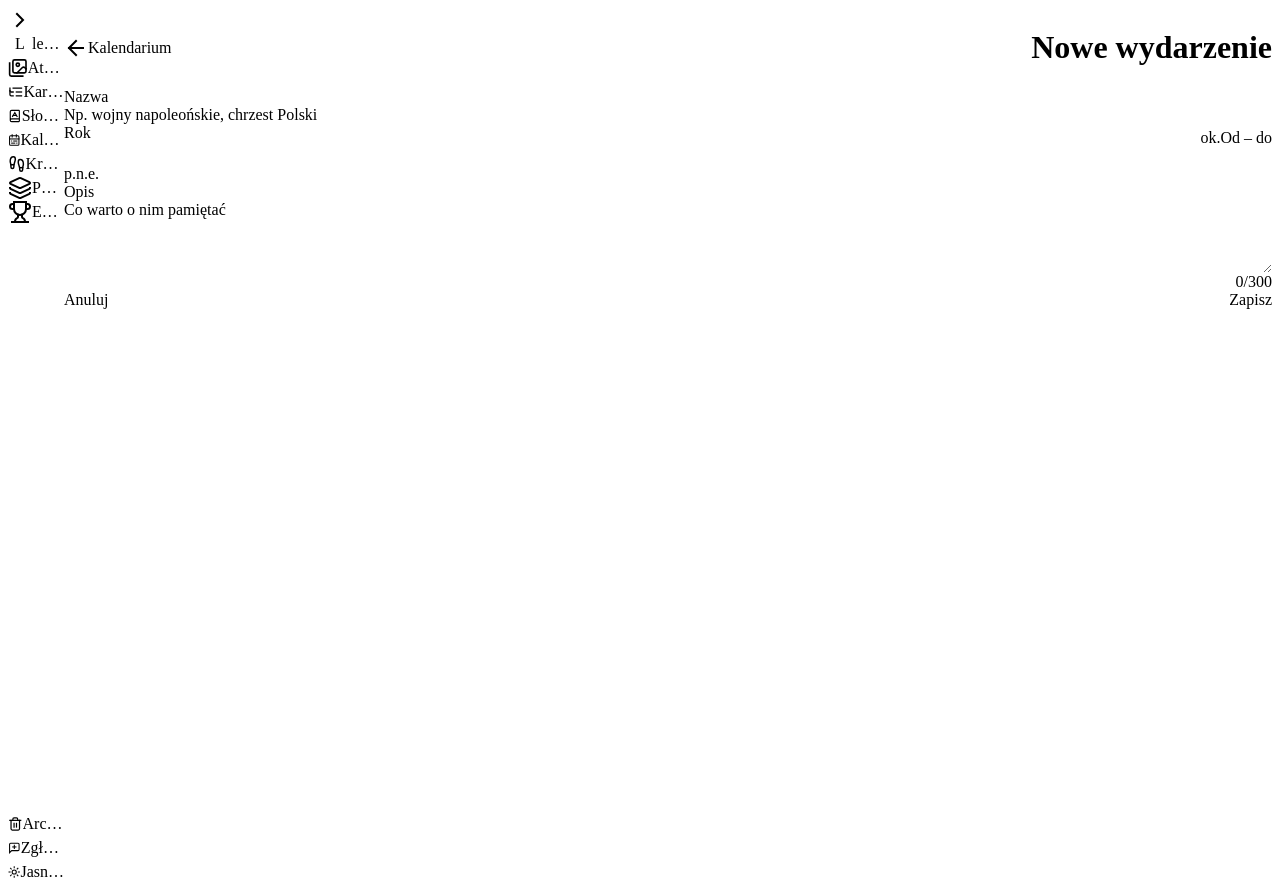
new timeline event page › unlocks the fields and offers another try when Wikipedia does not answer
In the field labelled "Nazwa": (668, 115) [64,106,1272,124], type "Potop szwedzki"
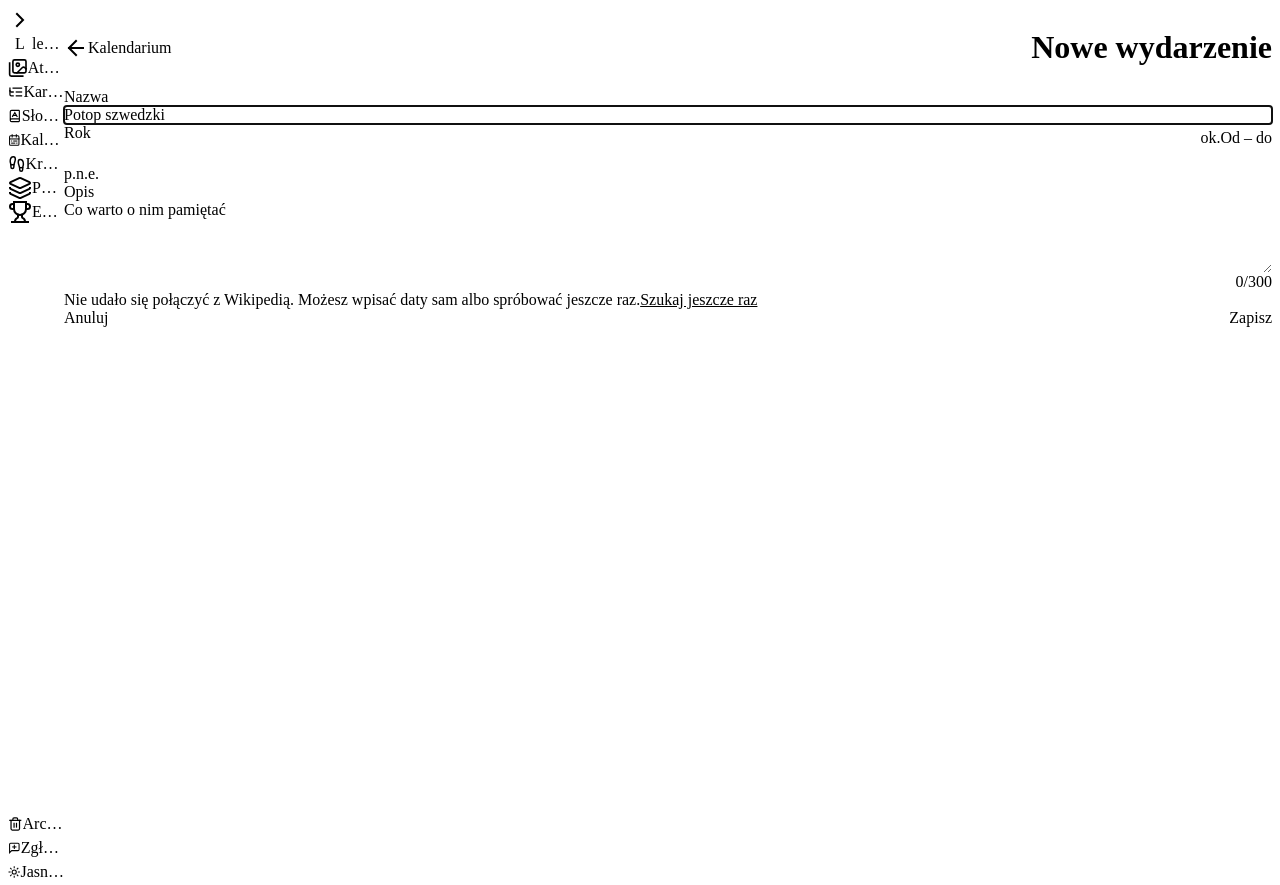
Click the button "Szukaj jeszcze raz": (699, 300) [640,291,758,309]
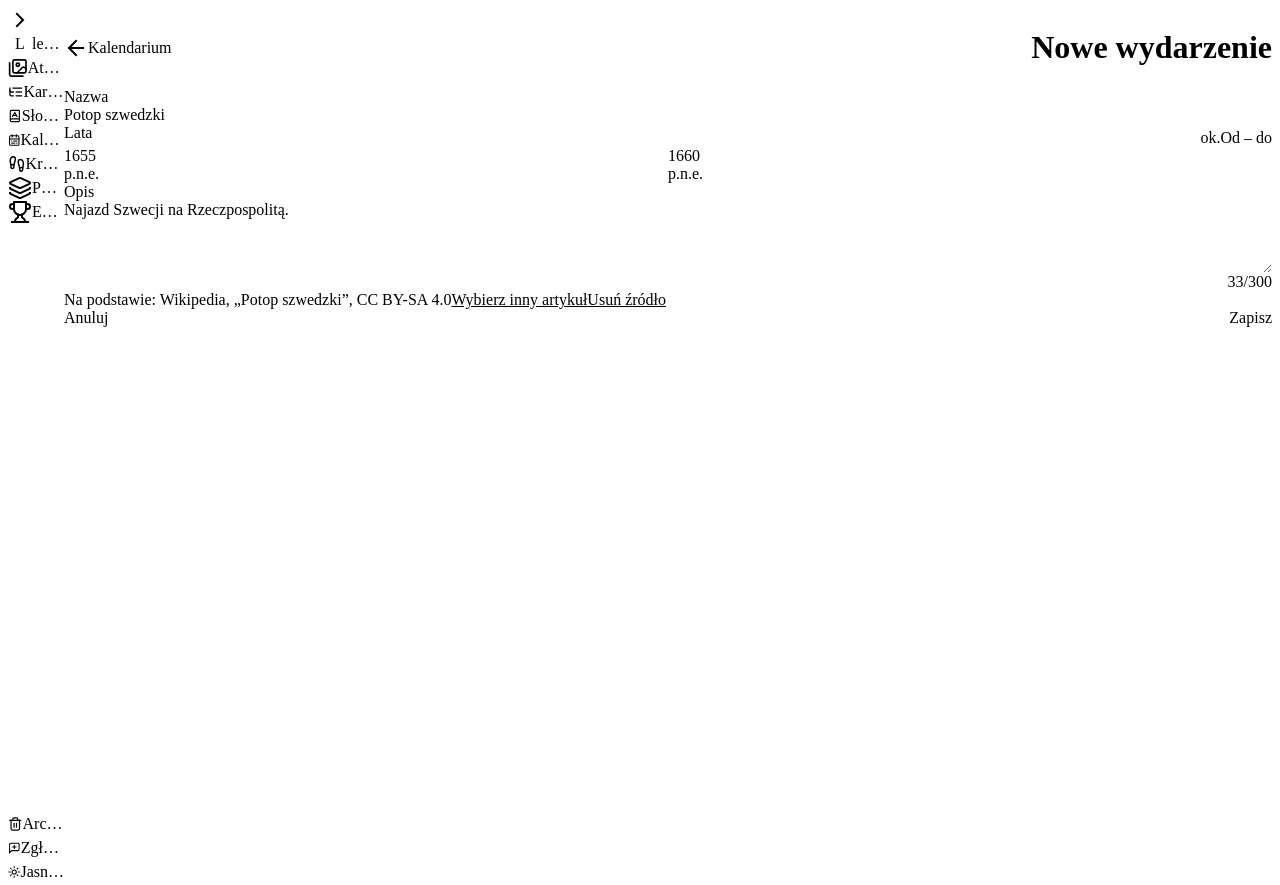
Now the text box labelled "Opis" holds "Najazd Szwecji na Rzeczpospolitą.", box [64,201,1272,273]
